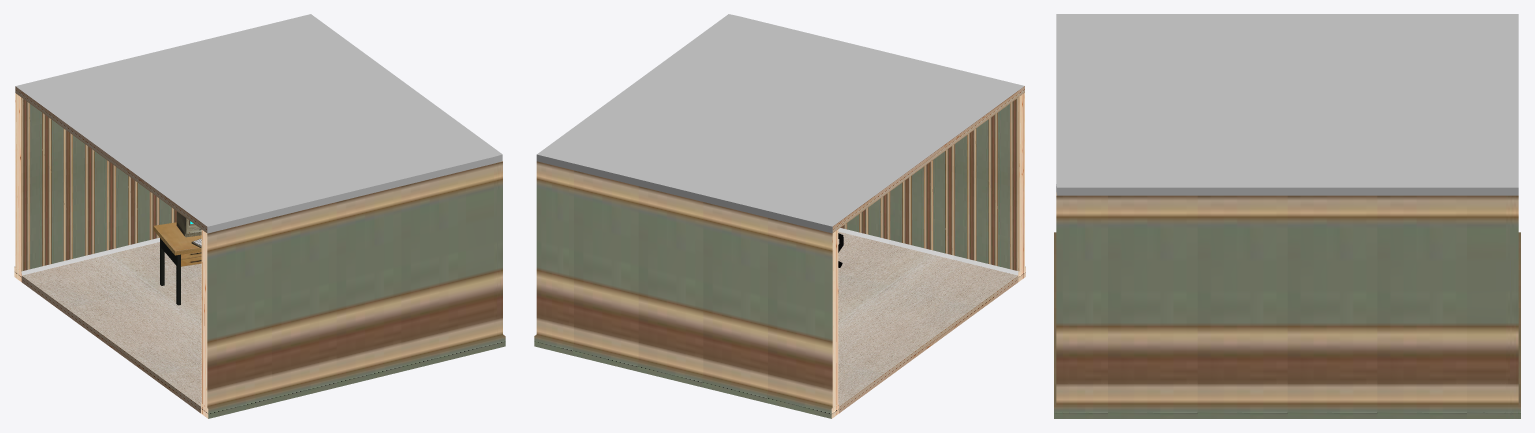
File: websiteRoomv2nonormal.gltf
3 renders of one model, left to right at view 1: azimuth 30°, elevation 25°; view 2: azimuth 150°, elevation 25°; view 3: azimuth 270°, elevation 25°, orthographic. The views are drawn at different scales.
Visible parts, largest first — view 1: Cube; view 2: Cube; view 3: Cube.
Boxes of the visible parts, x1,y1,x2,y2 form: Cube: (14,14,505,418); Cube: (534,14,1025,418); Cube: (1054,14,1520,418).
Bounding box in the file's own units: 13.8 × 8.49 × 15.6.
